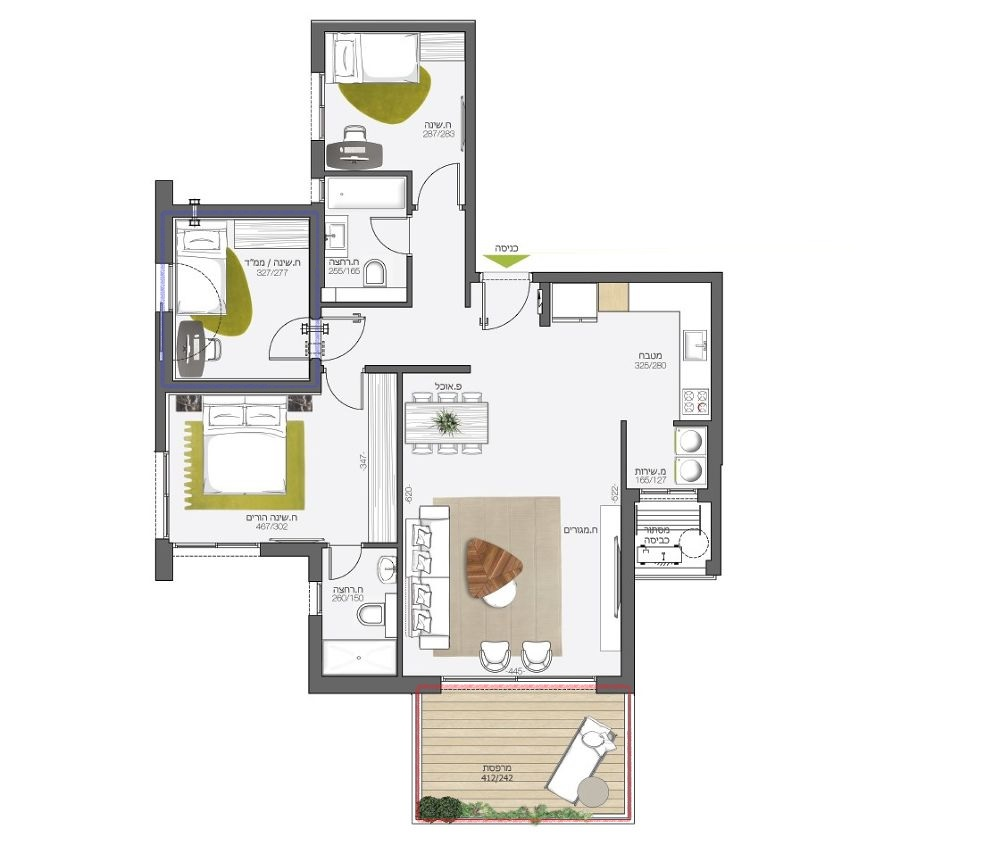balcony: (418, 688, 630, 822)
no: (401, 367, 630, 675), (313, 25, 470, 312), (157, 387, 403, 545)
securityroom: (162, 213, 320, 392)
